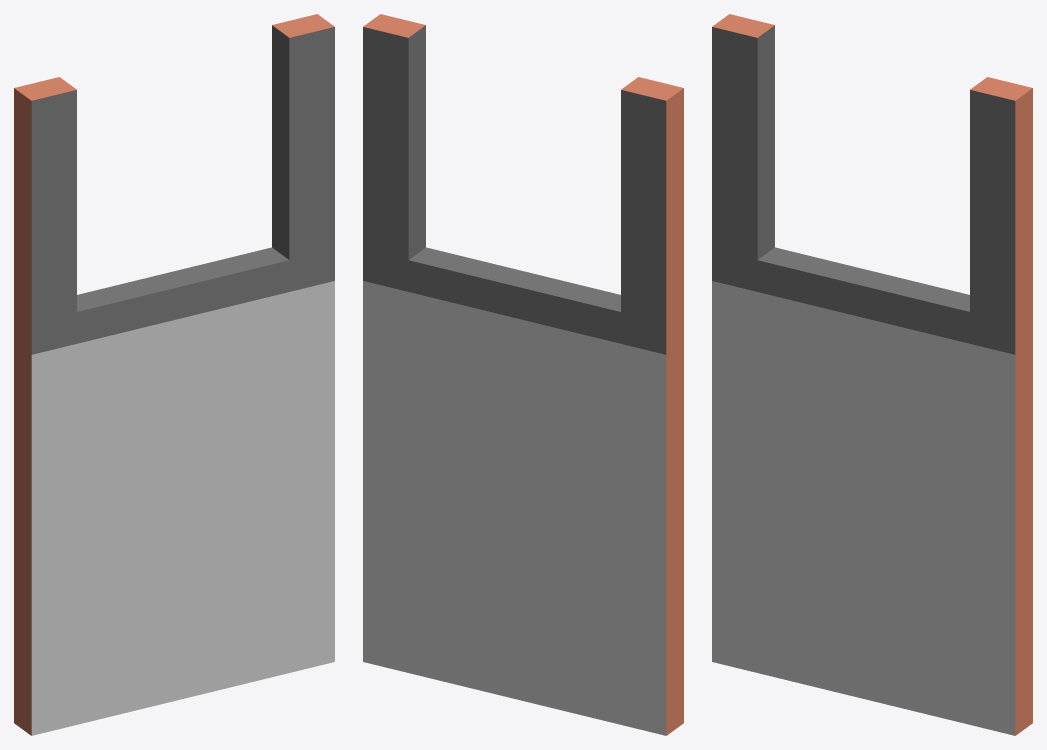
Rendered from Vent Wall Top.fbx.
The picture shows the model from 3 angles, left to right: view 1: azimuth 30°, elevation 25°; view 2: azimuth 150°, elevation 25°; view 3: azimuth 330°, elevation 25°; orthographic projection.
Visible parts, largest first — view 1: Vent Wall Top; view 2: Vent Wall Top; view 3: Vent Wall Top.
Boxes of the visible parts, box(x1,y1,x2,y2) form: Vent Wall Top: box(14, 14, 334, 735); Vent Wall Top: box(363, 14, 683, 735); Vent Wall Top: box(712, 14, 1032, 735).
Bounding box in the file's own units: 100 × 200 × 10.
